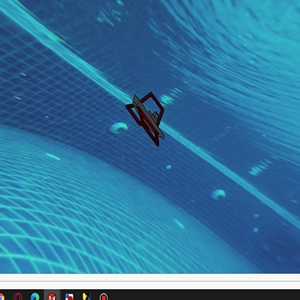submarine: (126, 90, 167, 142)
